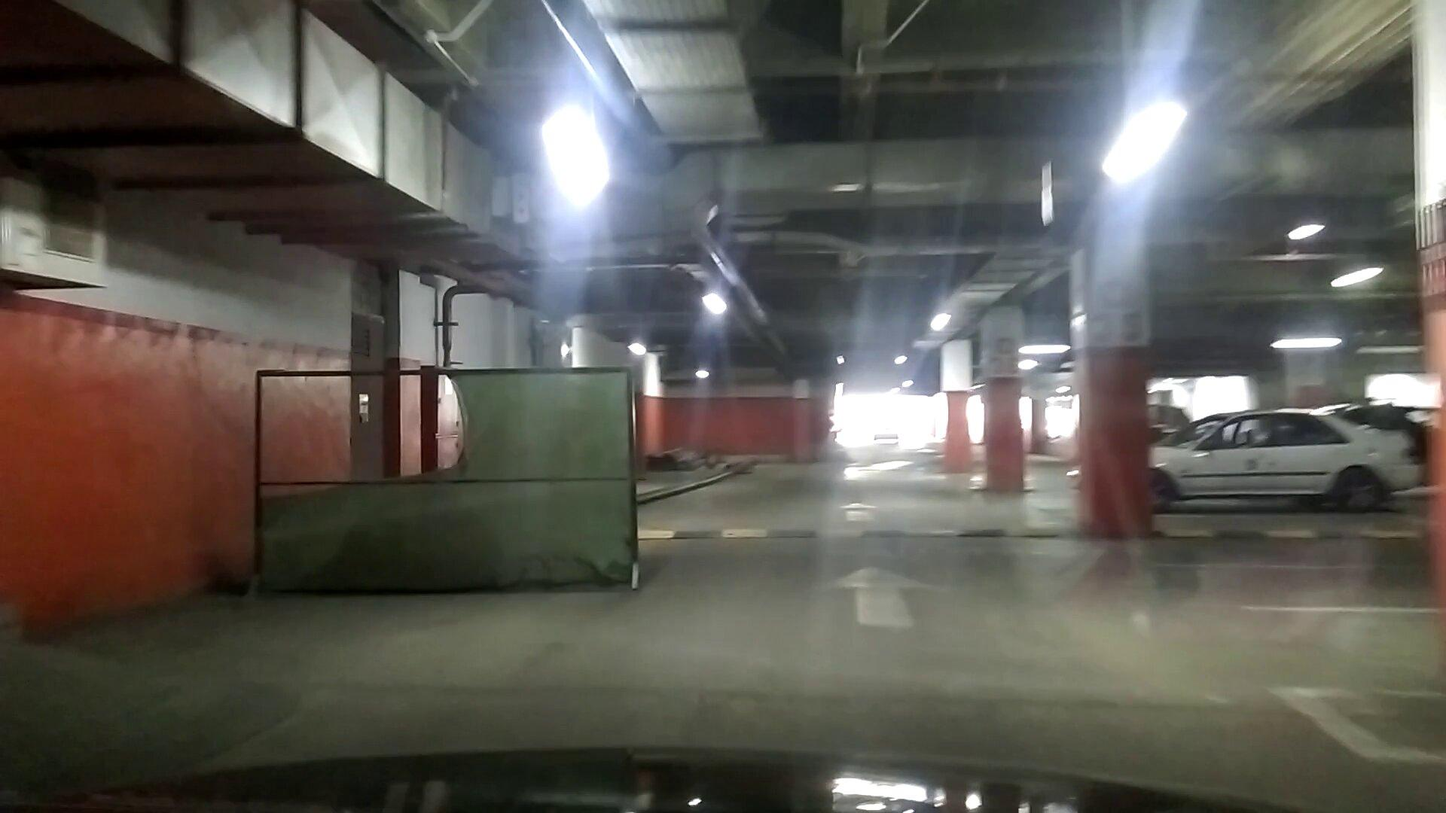Bump: (634, 517, 1435, 541)
